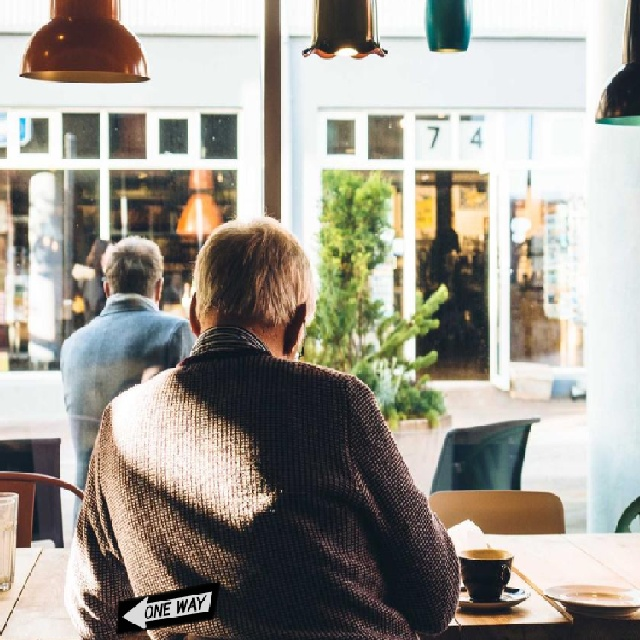ONE_WAY_ left: (114, 579, 220, 634)
